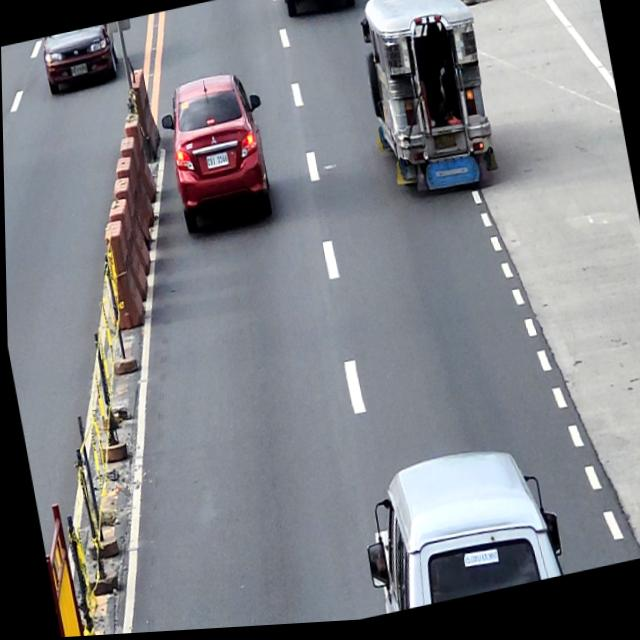Car: (350, 440, 566, 621), (154, 67, 282, 242), (41, 23, 123, 97)
Jeep: (349, 0, 503, 210)
License-Plate: (432, 135, 458, 156), (204, 154, 229, 172), (69, 63, 88, 79)
